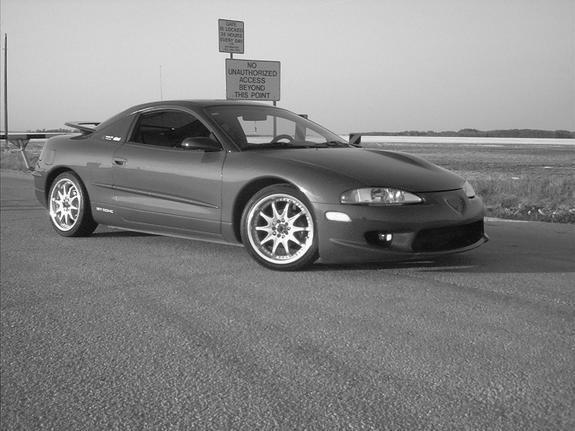car: (34, 99, 486, 273)
